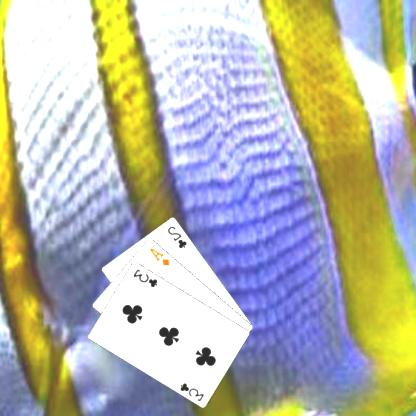2C: (167, 223, 190, 250)
3C: (132, 266, 161, 288), (179, 380, 207, 402)
AD: (148, 245, 173, 267)
